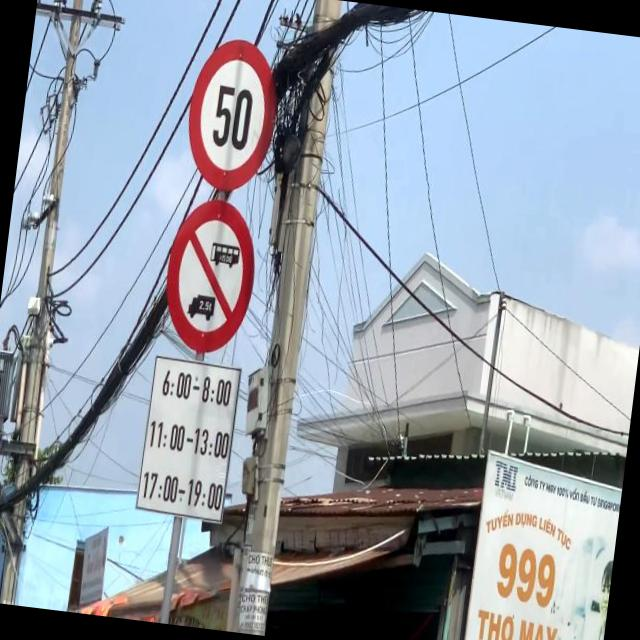P-127: (179, 34, 284, 196)
